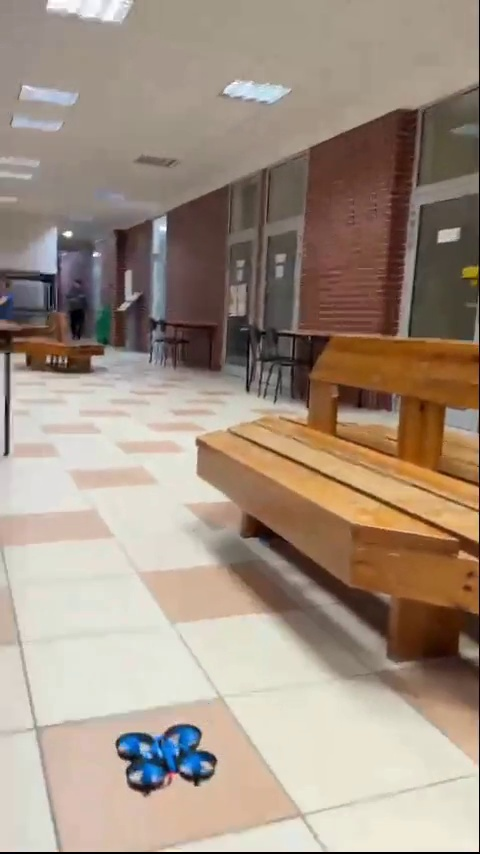drone: (102, 725, 219, 785)
no vest: (65, 276, 93, 348)
